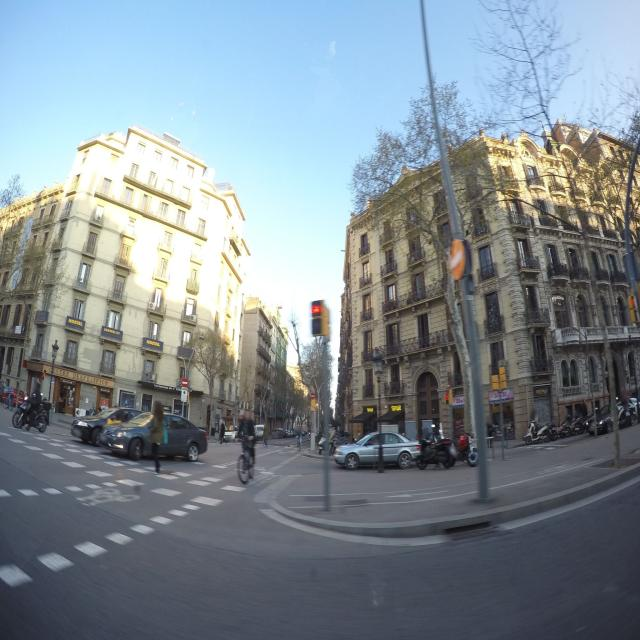bike: (414, 438, 458, 471), (12, 398, 48, 433), (236, 442, 258, 485), (535, 422, 563, 442)
car: (104, 410, 208, 463), (332, 430, 422, 470), (71, 406, 143, 445), (321, 429, 353, 453), (587, 408, 614, 436), (562, 414, 588, 436), (254, 423, 266, 442)
